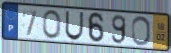6: (87, 11, 106, 45)
7: (22, 9, 39, 37)
9: (111, 14, 127, 45)
O: (131, 15, 152, 47), (42, 9, 63, 40)
U: (64, 10, 85, 42)
